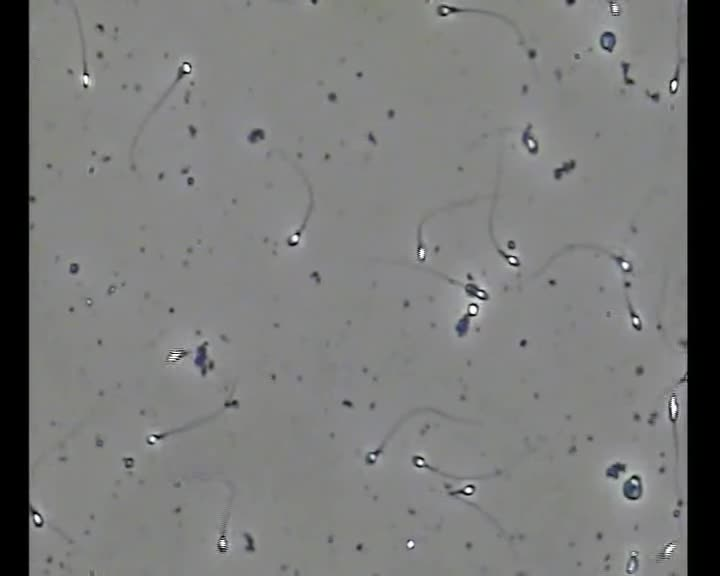spermhead: (522, 124, 538, 154), (623, 475, 642, 500), (464, 282, 488, 300), (657, 541, 676, 560), (599, 31, 616, 52), (455, 313, 470, 336), (166, 348, 188, 363), (625, 551, 639, 574), (668, 392, 679, 421), (615, 256, 632, 272), (436, 4, 458, 16), (502, 252, 519, 267), (31, 509, 44, 527), (365, 449, 380, 464), (287, 230, 301, 246), (458, 483, 475, 496), (631, 311, 642, 330), (217, 534, 228, 552), (179, 61, 192, 75), (412, 455, 426, 468), (416, 244, 426, 262), (146, 433, 161, 445), (669, 75, 678, 94), (81, 71, 91, 88), (466, 302, 478, 316), (609, 0, 620, 15), (224, 399, 238, 407), (405, 539, 415, 549), (679, 371, 687, 383)
